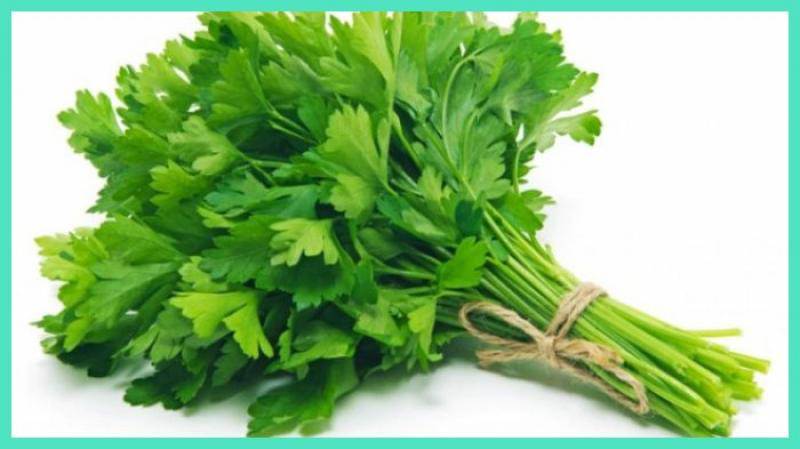Seledri: (102, 40, 763, 439)
